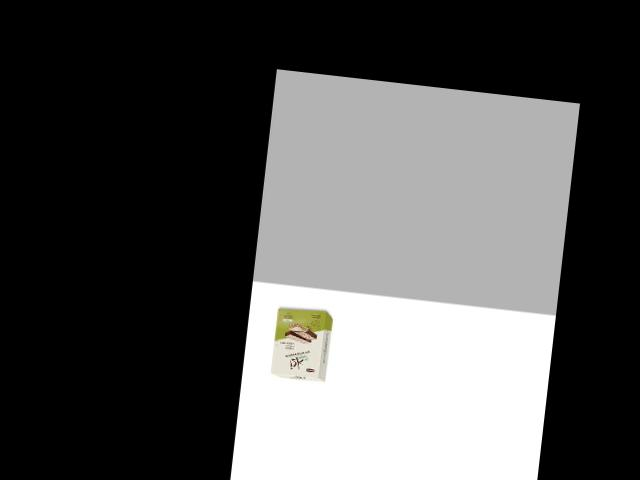chocolate: (263, 301, 337, 384)
